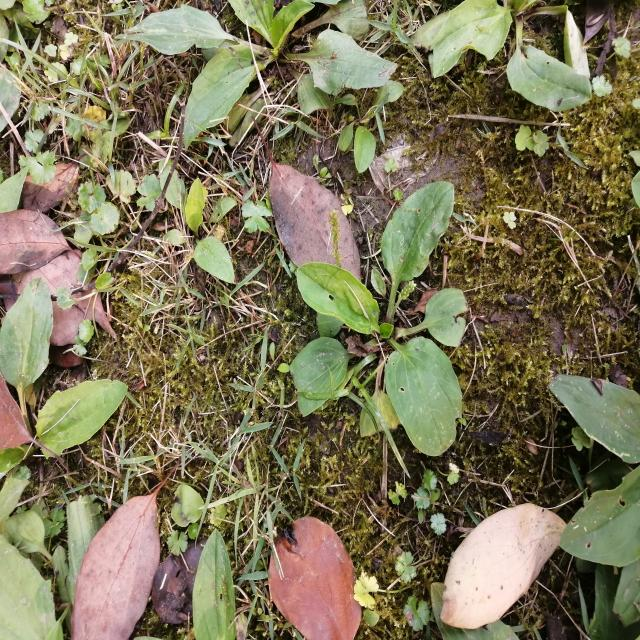plantain: (289, 186, 471, 450)
